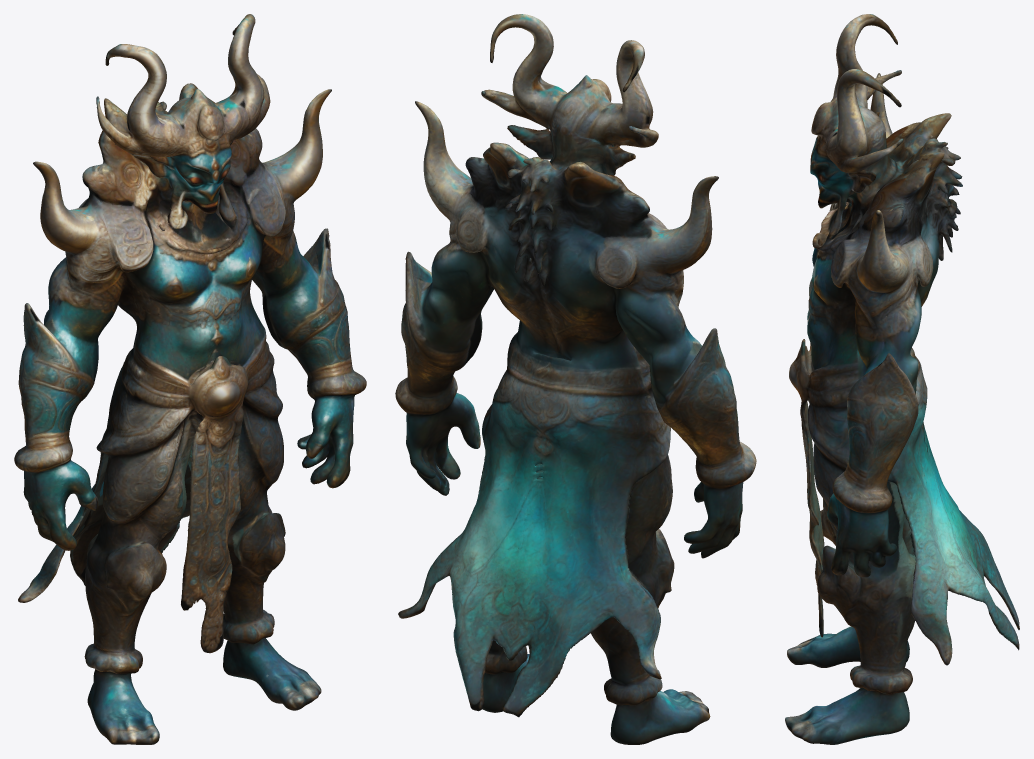
File: Create_a_hyper_realis_0205160341_texture.fbx
The picture shows the model from 3 angles, left to right: view 1: azimuth 30°, elevation 25°; view 2: azimuth 150°, elevation 25°; view 3: azimuth 270°, elevation 25°; orthographic projection. The views are drawn at different scales.
Visible parts, largest first — view 1: Mesh1_Mesh1.027; view 2: Mesh1_Mesh1.027; view 3: Mesh1_Mesh1.027.
Boxes of the visible parts, left/top/right/bottom form: Mesh1_Mesh1.027: left=14, top=14, right=366, bottom=744; Mesh1_Mesh1.027: left=395, top=14, right=756, bottom=744; Mesh1_Mesh1.027: left=785, top=14, right=1019, bottom=744.
Size of the model in its own units: 107 by 200 by 64.78.
1 material, 1 textured.
